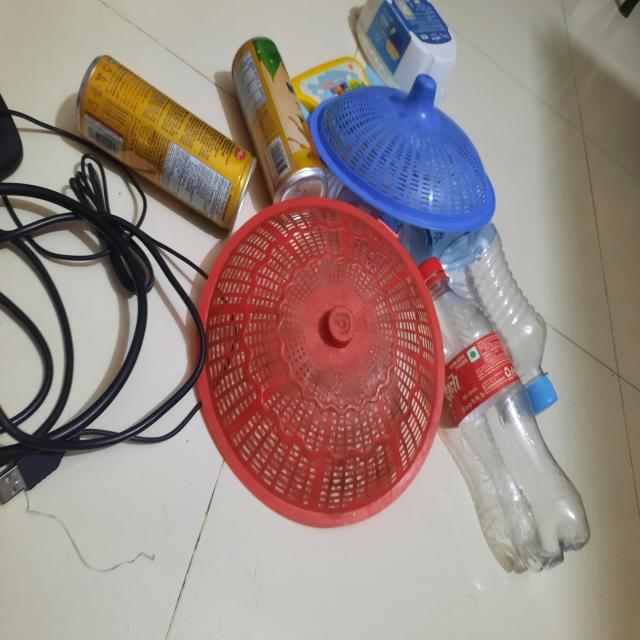Cable: (0, 167, 204, 506)
Plastics: (219, 215, 592, 579), (313, 8, 526, 234)
can: (78, 18, 312, 207)
